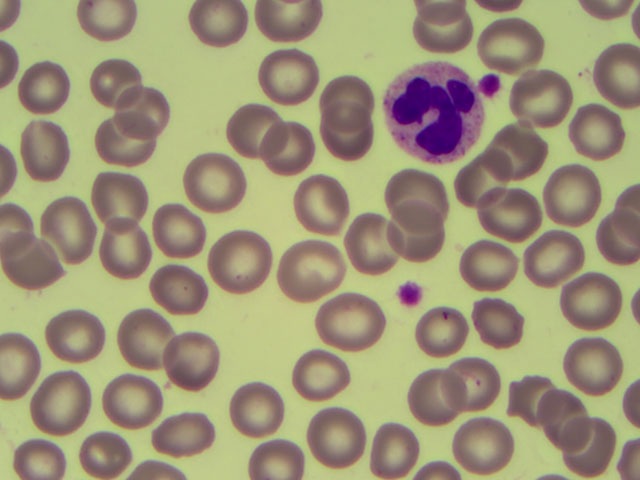Platelets: (401, 286, 417, 306), (483, 75, 498, 93)
RBC: (37, 196, 97, 264), (207, 232, 270, 292), (385, 169, 451, 226), (16, 118, 73, 182), (181, 154, 246, 209), (95, 167, 149, 232), (291, 179, 353, 234), (542, 165, 597, 226), (281, 243, 346, 294), (345, 212, 399, 273), (36, 367, 88, 430), (305, 410, 363, 465), (391, 210, 448, 264), (228, 379, 286, 432), (476, 21, 541, 67), (561, 273, 616, 327), (259, 50, 319, 99), (317, 296, 376, 345), (511, 73, 567, 124), (100, 214, 149, 272), (152, 201, 201, 259), (12, 428, 66, 480), (75, 428, 129, 480), (405, 369, 459, 420), (370, 426, 424, 477), (48, 305, 102, 356), (120, 311, 174, 362), (162, 335, 216, 386), (568, 338, 622, 389), (562, 416, 616, 467), (508, 372, 562, 423), (537, 397, 591, 448), (445, 358, 499, 409), (452, 415, 506, 466), (103, 373, 157, 424), (153, 406, 207, 457), (527, 235, 584, 283), (1, 327, 39, 399), (113, 90, 172, 135), (97, 114, 152, 162), (239, 437, 300, 480), (252, 1, 319, 40), (259, 127, 313, 175), (594, 48, 640, 104), (451, 162, 512, 204), (471, 191, 532, 233), (471, 299, 532, 341), (291, 355, 352, 397), (492, 126, 545, 174), (225, 107, 281, 150), (78, 1, 134, 40), (412, 10, 468, 49), (150, 270, 206, 309), (71, 67, 127, 106), (192, 1, 248, 39), (1, 199, 34, 256), (600, 215, 640, 262), (420, 313, 459, 356), (19, 64, 60, 104), (407, 1, 465, 23), (1, 1, 23, 33)
WBC: (386, 65, 477, 162)
